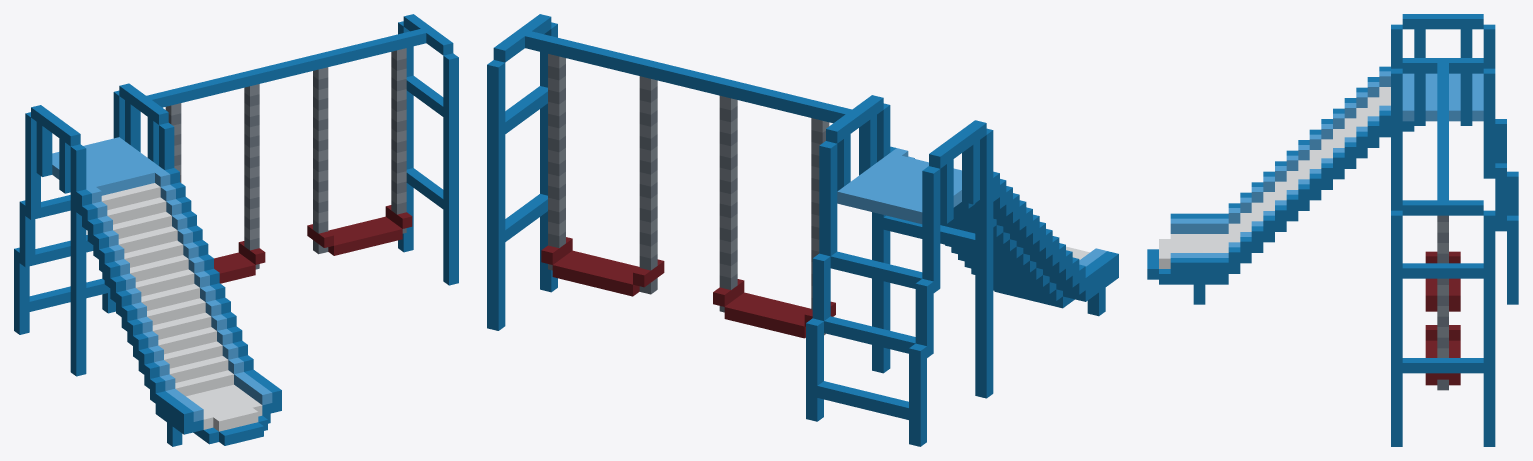
Rendered from 3D Voxel Park-68.obj.
3 views of the same model, side by side, from view 1: azimuth 30°, elevation 25°; view 2: azimuth 150°, elevation 25°; view 3: azimuth 270°, elevation 25° (orthographic). The views are drawn at different scales.
Bounding box in the file's own units: 3.9 × 2.3 × 3.2.
1 material, 1 textured.
